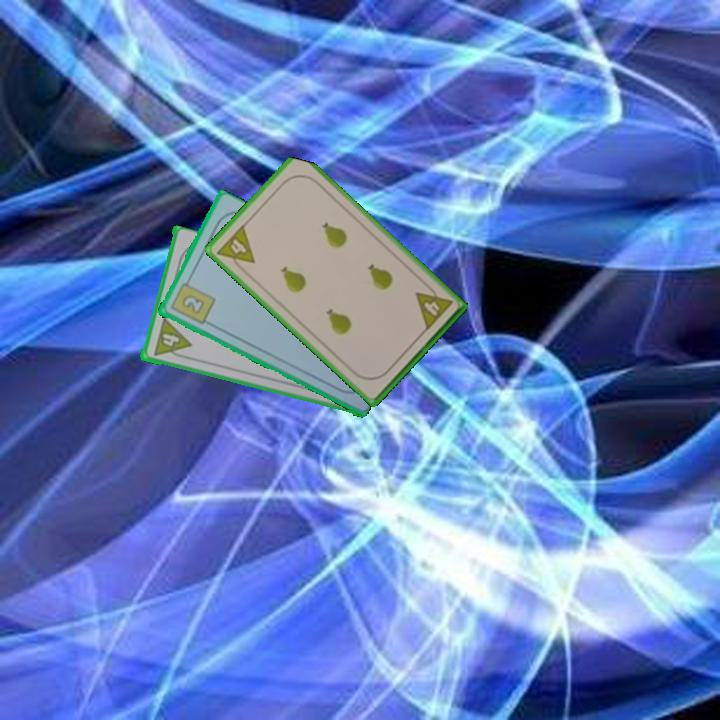2b: (167, 274, 218, 328)
4p: (213, 221, 258, 276), (412, 280, 455, 333), (150, 315, 193, 362)
